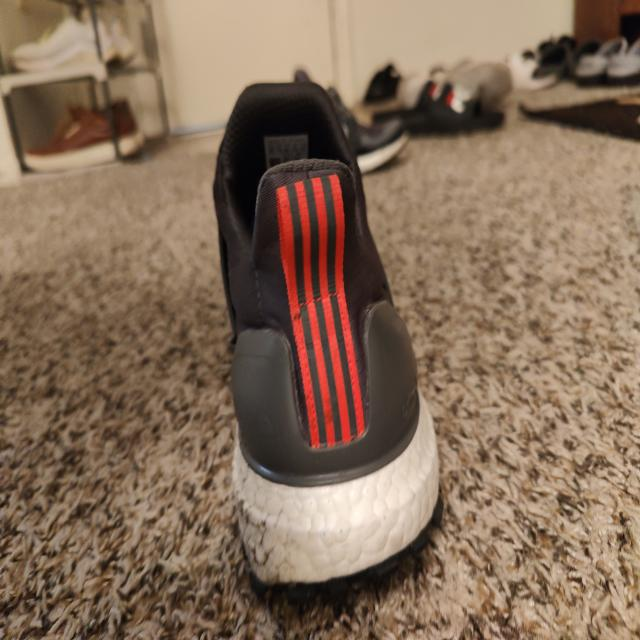black shoes: (220, 81, 445, 595)
